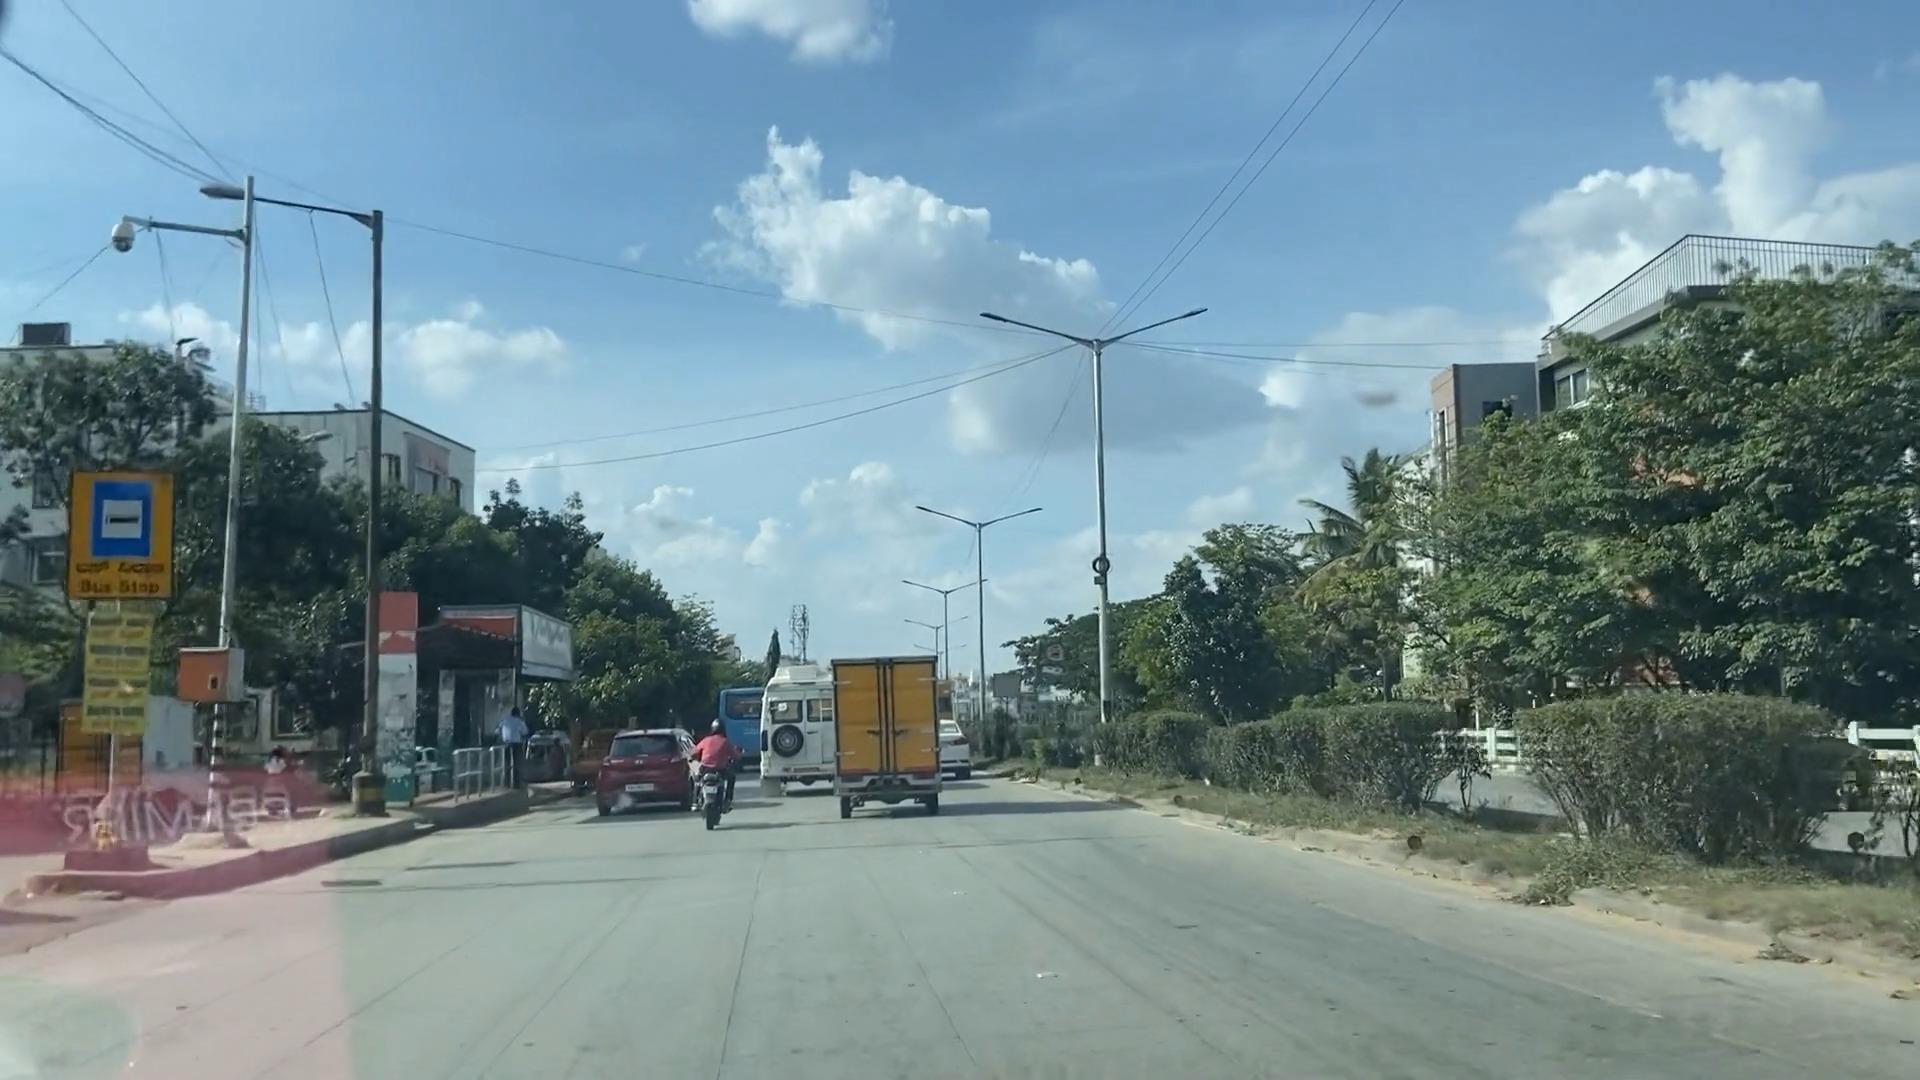HMV: (832, 637, 956, 819)
LMV: (596, 720, 716, 808), (695, 720, 758, 829)
